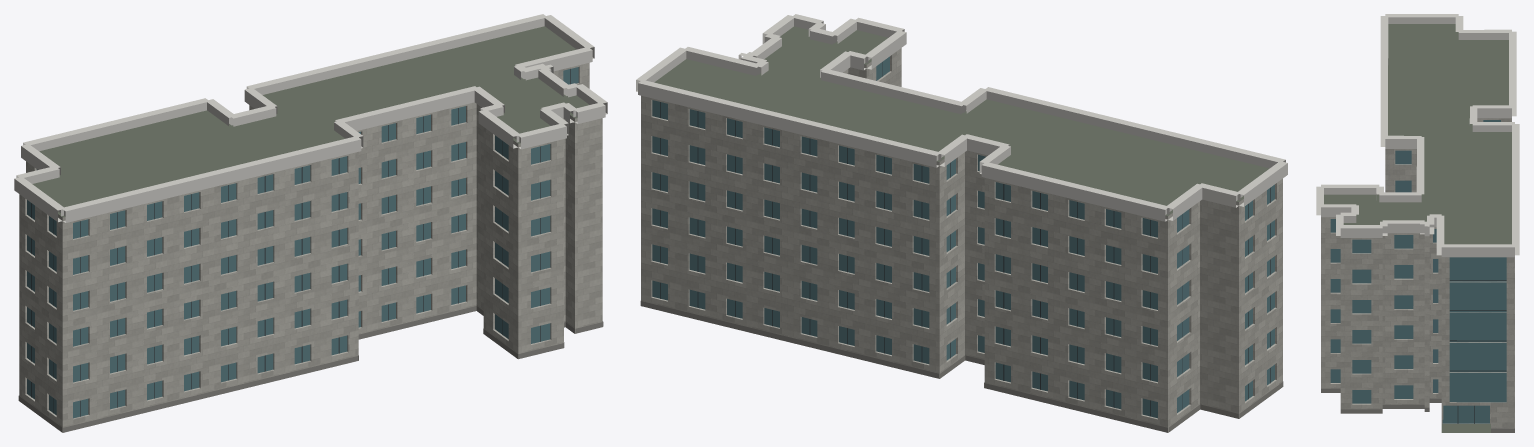
3 renders of one model, left to right at view 1: azimuth 30°, elevation 25°; view 2: azimuth 150°, elevation 25°; view 3: azimuth 270°, elevation 25°, orthographic. The views are drawn at different scales.
Parts seen in each view (by area): view 1: law2__wall, law2__roof, law2__trim, law2__glass, law2__base, law2__frame; view 2: law2__wall, law2__roof, law2__glass, law2__trim, law2__base, law2__frame; view 3: law2__roof, law2__wall, law2__glass, law2__trim, law2__base, law2__frame.
Boxes of the visible parts, x1,y1,x2,y2 form: law2__wall: (19,62,602,432); law2__roof: (32,26,588,217); law2__trim: (14,14,607,222); law2__glass: (27,67,578,418); law2__base: (18,305,603,432); law2__frame: (31,69,570,416); law2__wall: (641,48,1282,432); law2__roof: (654,26,1269,378); law2__glass: (652,56,1274,418); law2__trim: (636,14,1287,221); law2__base: (640,301,1283,432); law2__frame: (660,62,1270,416); law2__roof: (1324,24,1511,432); law2__wall: (1321,118,1514,428); law2__glass: (1330,120,1506,423); law2__trim: (1316,14,1519,257); law2__base: (1321,388,1514,432); law2__frame: (1449,280,1506,423).
Size of the model in its own units: 58.23 by 21.82 by 21.45.
7 materials, 1 textured.
